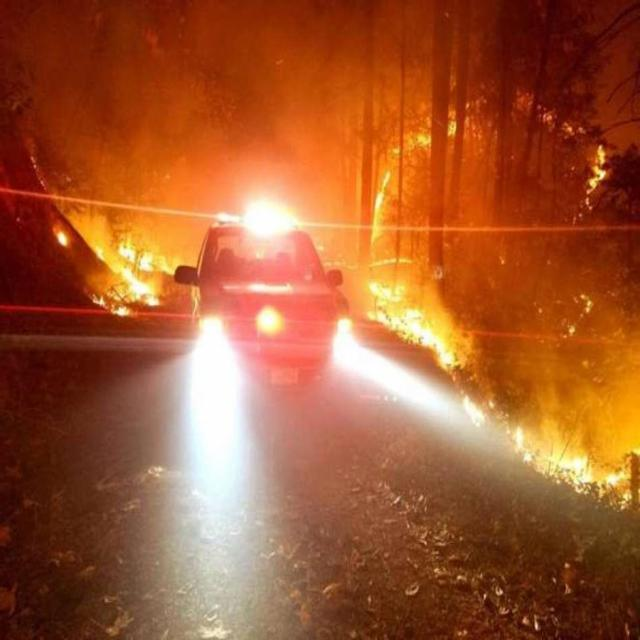fire: (355, 77, 634, 517), (61, 180, 168, 307)
